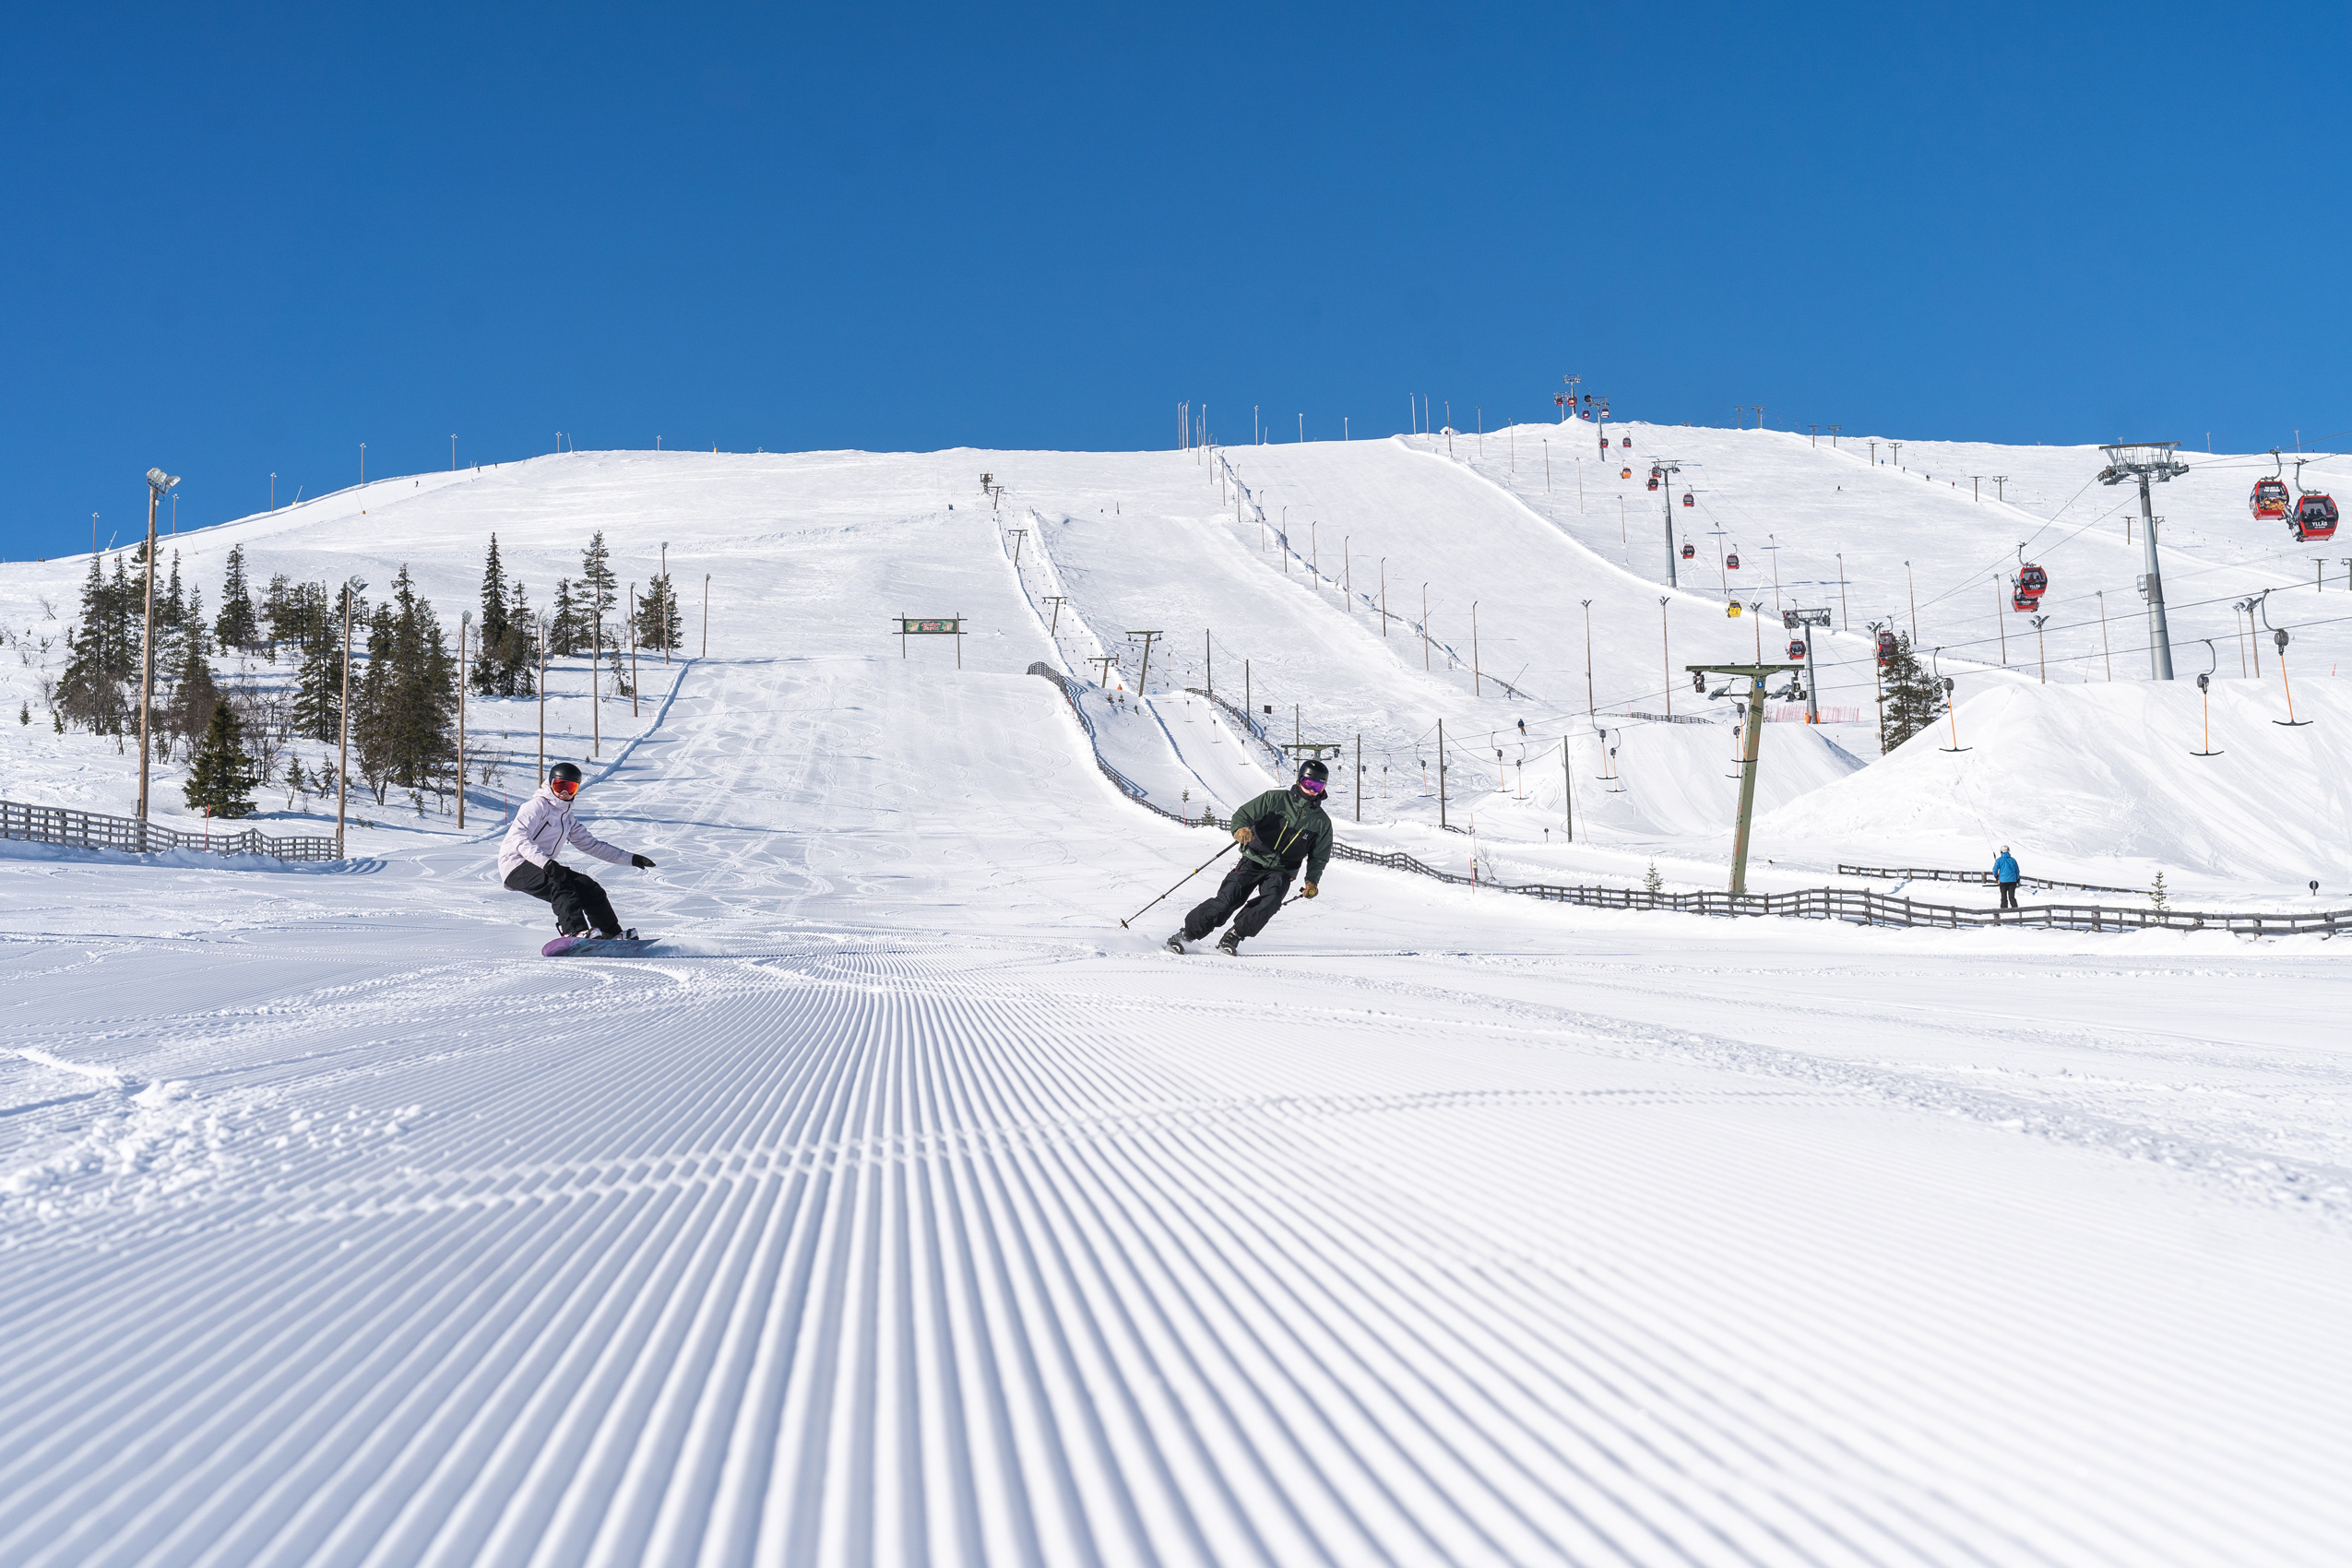skier: (1109, 754, 1344, 964)
snowboarder: (488, 758, 669, 961)
